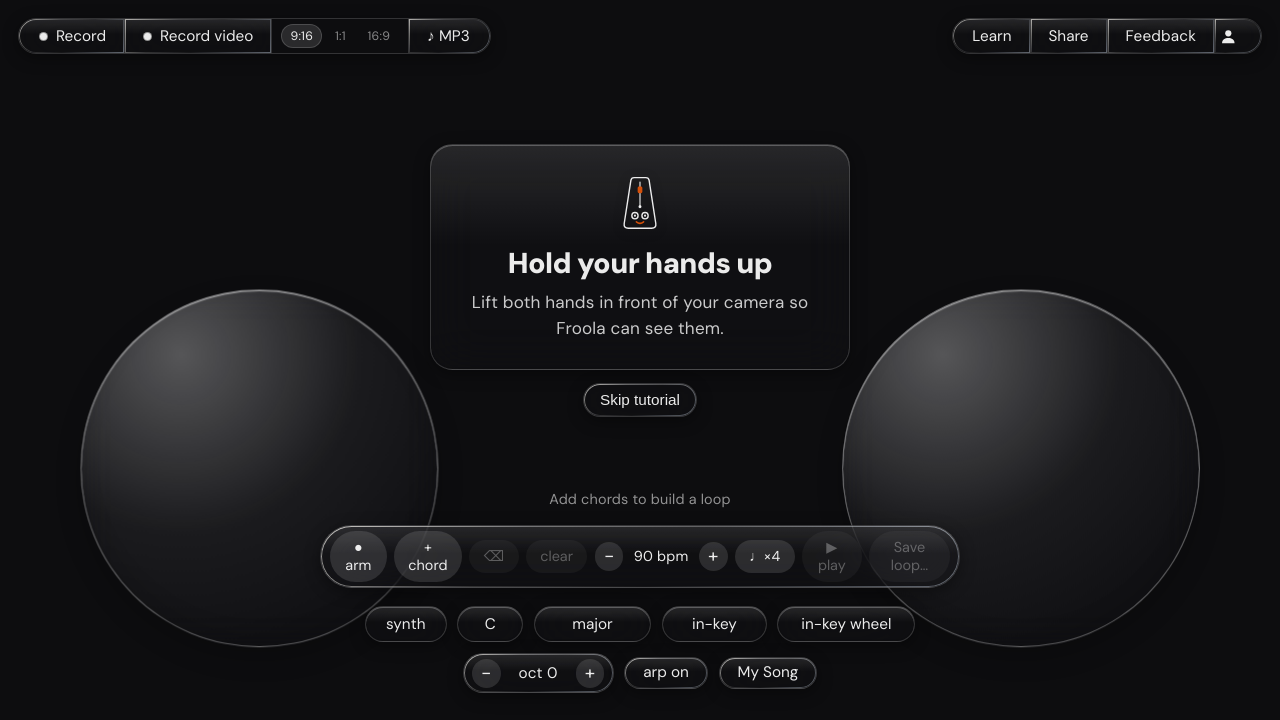
Test case: PlayShell — custom wheel selector gating › selecting "New wheel…" opens the WheelEditor dialog
The width and height of the screenshot is (1280, 720).
Select "+ new wheel…" in the dropdown named "Wheel" at (846, 624), box x1=778 y1=606 x2=915 y2=642
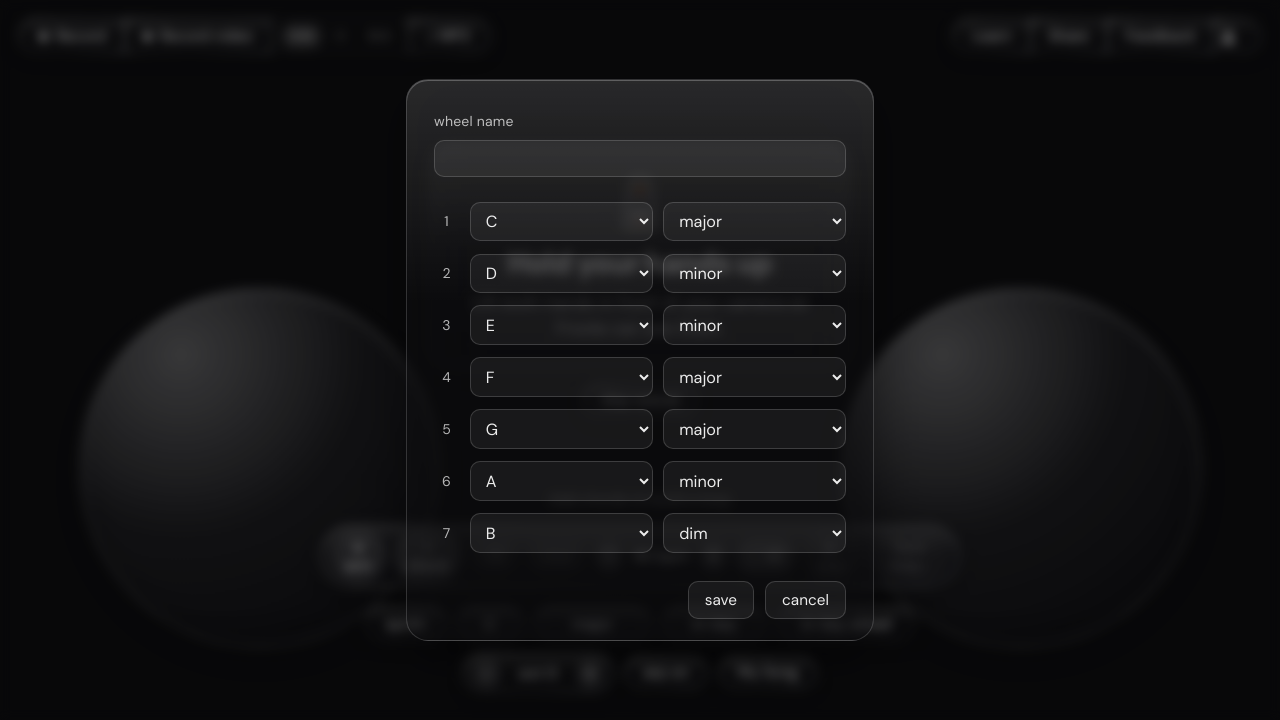
Check: the dialog named "Custom wheel editor" is shown, box x1=406 y1=79 x2=874 y2=641
